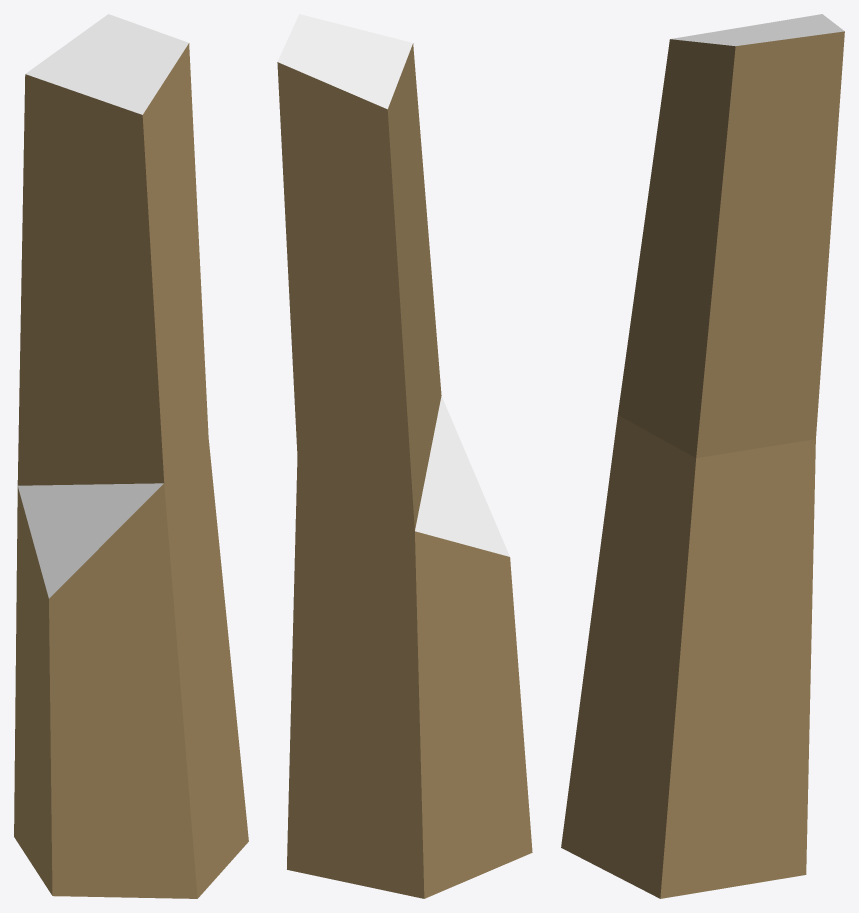
File: Acacia_Stump_Snow_01_LOD.fbx
The picture shows the model from 3 angles, left to right: view 1: azimuth 30°, elevation 25°; view 2: azimuth 150°, elevation 25°; view 3: azimuth 270°, elevation 25°; orthographic projection. The views are drawn at different scales.
Parts seen in each view (by area): view 1: Acacia_Stump_Snow_01_LOD0; view 2: Acacia_Stump_Snow_01_LOD0; view 3: Acacia_Stump_Snow_01_LOD0.
Part boxes in pixels (x1,y1,x2,y2): Acacia_Stump_Snow_01_LOD0: (14, 14, 248, 898); Acacia_Stump_Snow_01_LOD0: (277, 14, 532, 898); Acacia_Stump_Snow_01_LOD0: (561, 14, 844, 898).
Size of what is drawn, in the model's own units: 69.49 by 254 by 77.97.
